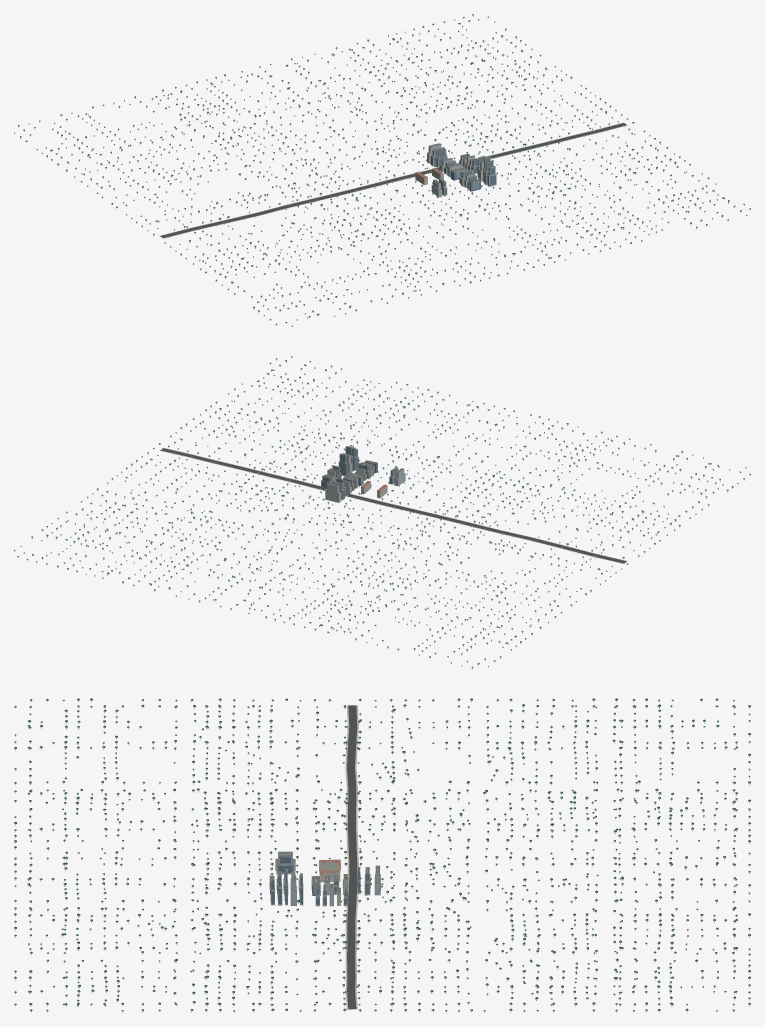
Rendered from tile-p000-m001.glb.
The picture shows the model from 3 angles, top to bottom: view 1: azimuth 30°, elevation 25°; view 2: azimuth 150°, elevation 25°; view 3: azimuth 270°, elevation 25°; orthographic projection. The views are drawn at different scales.
Parts seen in each view (by area): view 1: street-trees-mesh-265, road-h-9-mesh-1, street-trees-mesh-264, road-h-9-mesh-0; view 2: street-trees-mesh-265, road-h-9-mesh-1, street-trees-mesh-264, road-h-9-mesh-0; view 3: street-trees-mesh-265, road-h-9-mesh-1, street-trees-mesh-264, road-h-9-mesh-0.
Boxes of the visible parts, x1,y1,x2,y2 form: street-trees-mesh-265: (14, 14, 750, 326); road-h-9-mesh-1: (160, 123, 626, 238); street-trees-mesh-264: (18, 16, 750, 325); road-h-9-mesh-0: (159, 122, 627, 238); street-trees-mesh-265: (14, 356, 750, 668); road-h-9-mesh-1: (160, 448, 626, 563); street-trees-mesh-264: (14, 358, 750, 669); road-h-9-mesh-0: (160, 448, 627, 563); street-trees-mesh-265: (14, 698, 750, 1011); road-h-9-mesh-1: (347, 705, 357, 1009); street-trees-mesh-264: (15, 701, 749, 1012); road-h-9-mesh-0: (345, 705, 358, 1009).
Size of the model in its own units: 1639 by 79.3 by 1639.
